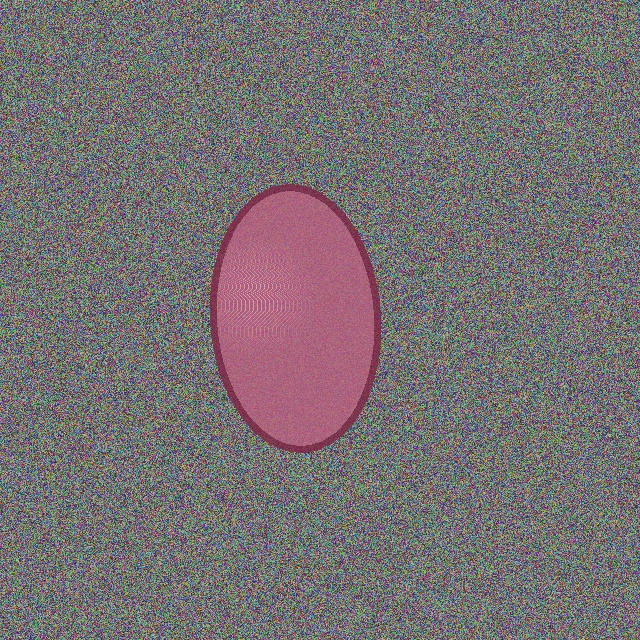lens: (213, 187, 377, 449)
